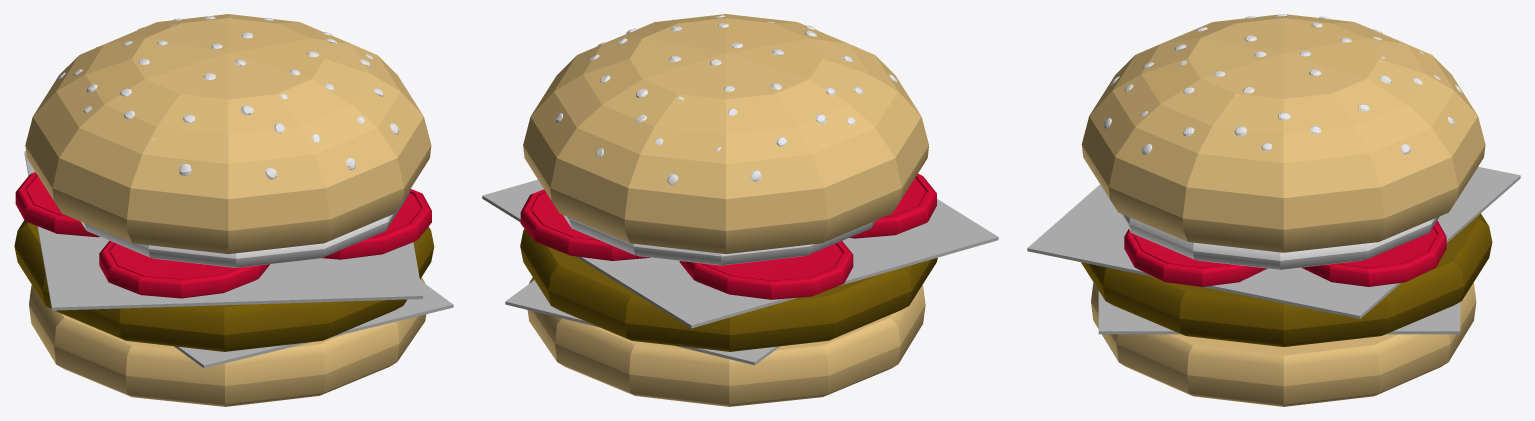
The model's file is Burger Full.fbx.
The picture shows the model from 3 angles, left to right: view 1: azimuth 30°, elevation 25°; view 2: azimuth 150°, elevation 25°; view 3: azimuth 270°, elevation 25°; orthographic projection.
Parts seen in each view (by area): view 1: polySurface1, pSphere13, pCube2, pSphere2, pSphere9, pSphere6, pCube5, pSphere10, pSphere8, polySurface2; view 2: polySurface1, pSphere13, pSphere2, pCube2, pSphere8, pSphere11, pSphere6, pSphere9, pCube5, polySurface2; view 3: polySurface1, pSphere13, pSphere2, pCube2, pSphere6, pSphere11, pSphere10, pCube5, polySurface2.
Part boxes in pixels (left/top/right/bottom): polySurface1: left=25, top=14, right=431, bottom=254; pSphere13: left=29, top=277, right=426, bottom=406; pCube2: left=24, top=151, right=422, bottom=310; pSphere2: left=14, top=220, right=434, bottom=351; pSphere9: left=99, top=240, right=269, bottom=298; pSphere6: left=81, top=189, right=410, bottom=267; pCube5: left=174, top=280, right=453, bottom=368; pSphere10: left=322, top=189, right=431, bottom=259; pSphere8: left=15, top=172, right=100, bottom=237; polySurface2: left=58, top=16, right=398, bottom=179; polySurface1: left=523, top=14, right=928, bottom=253; pSphere13: left=527, top=277, right=925, bottom=406; pSphere2: left=520, top=229, right=937, bottom=351; pCube2: left=482, top=179, right=998, bottom=328; pSphere8: left=679, top=241, right=853, bottom=299; pSphere11: left=520, top=189, right=650, bottom=260; pSphere6: left=563, top=215, right=875, bottom=265; pSphere9: left=849, top=174, right=936, bottom=238; pCube5: left=505, top=280, right=779, bottom=365; polySurface2: left=555, top=15, right=897, bottom=184; polySurface1: left=1081, top=14, right=1485, bottom=252; pSphere13: left=1091, top=282, right=1476, bottom=406; pSphere2: left=1081, top=213, right=1492, bottom=346; pCube2: left=1027, top=166, right=1520, bottom=318; pSphere6: left=1119, top=213, right=1439, bottom=269; pSphere11: left=1302, top=220, right=1446, bottom=286; pSphere10: left=1124, top=229, right=1266, bottom=286; pCube5: left=1098, top=291, right=1460, bottom=334; polySurface2: left=1103, top=14, right=1461, bottom=154.
Bounding box in the file's own units: 12.23 × 7.53 × 12.23.
